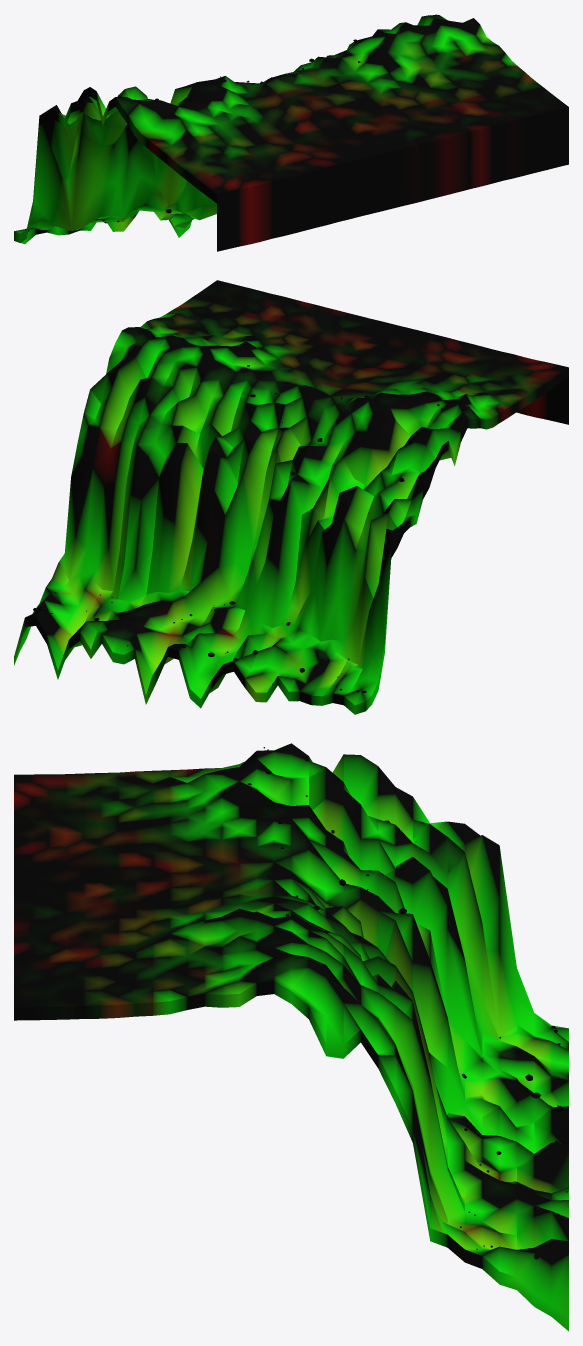
Rendered from Terrain_07_04.fbx.
The picture shows the model from 3 angles, top to bottom: view 1: azimuth 30°, elevation 25°; view 2: azimuth 150°, elevation 25°; view 3: azimuth 270°, elevation 25°; orthographic projection. The views are drawn at different scales.
Parts seen in each view (by area): view 1: Terrain_07_04_LOD0; view 2: Terrain_07_04_LOD0; view 3: Terrain_07_04_LOD0.
Part boxes in pixels (x1,y1,x2,y2): Terrain_07_04_LOD0: [14, 14, 568, 251]; Terrain_07_04_LOD0: [14, 280, 568, 714]; Terrain_07_04_LOD0: [14, 743, 568, 1331].
Size of what is drawn, in the model's own units: 384 by 279 by 384.
